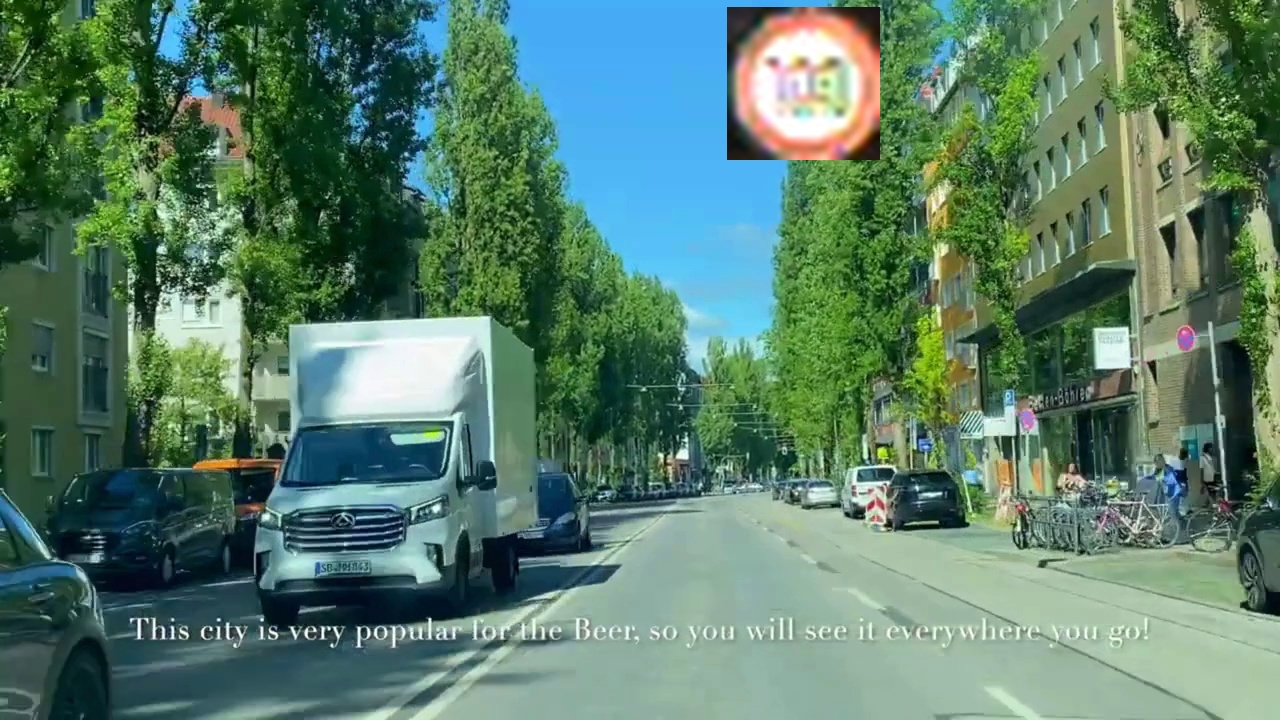Speed 100: (727, 7, 880, 160)
